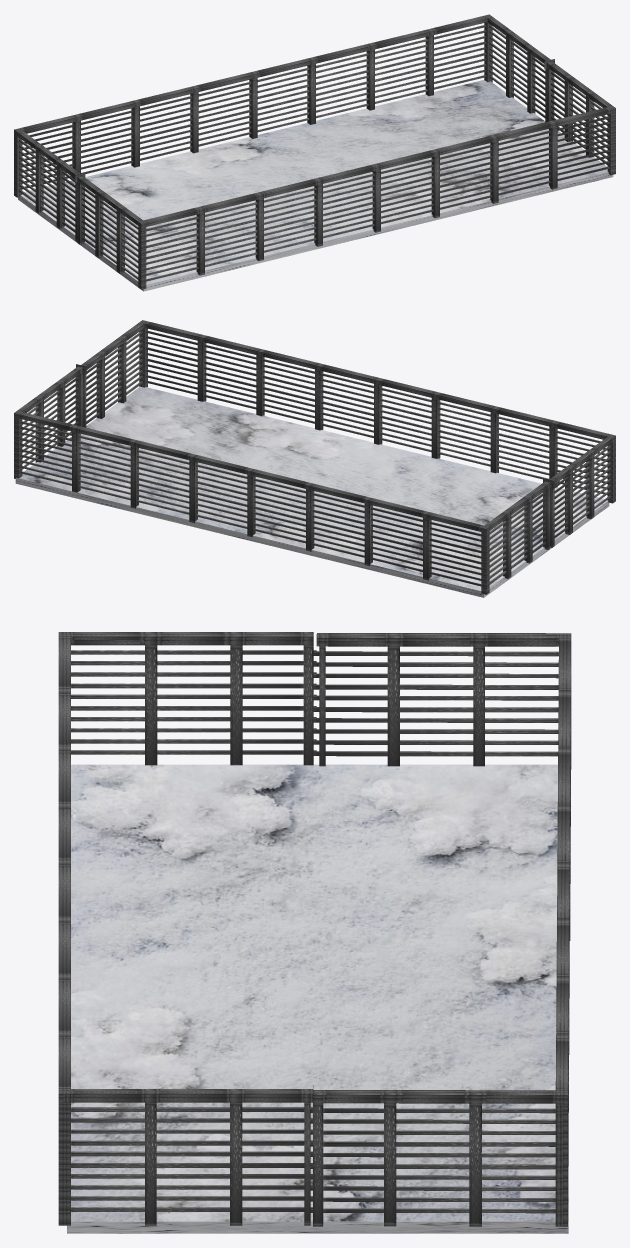
The model's file is valla1.obj.
The picture shows the model from 3 angles, top to bottom: view 1: azimuth 30°, elevation 25°; view 2: azimuth 150°, elevation 25°; view 3: azimuth 270°, elevation 25°; orthographic projection. The views are drawn at different scales.
Parts seen in each view (by area): view 1: Box001, railing_railing_railing_dining_railing_ground_floor, railing_railing_railing_dining_railing_ground_floor001; view 2: Box001, railing_railing_railing_dining_railing_ground_floor001, railing_railing_railing_dining_railing_ground_floor; view 3: Box001, railing_railing_railing_dining_railing_ground_floor001, railing_railing_railing_dining_railing_ground_floor.
Boxes of the visible parts, left/top/right/bottom form: Box001: left=18, top=80, right=613, bottom=291; railing_railing_railing_dining_railing_ground_floor: left=75, top=61, right=615, bottom=289; railing_railing_railing_dining_railing_ground_floor001: left=14, top=14, right=554, bottom=241; Box001: left=15, top=386, right=609, bottom=597; railing_railing_railing_dining_railing_ground_floor001: left=14, top=364, right=552, bottom=594; railing_railing_railing_dining_railing_ground_floor: left=76, top=320, right=615, bottom=547; Box001: left=67, top=764, right=568, bottom=1233; railing_railing_railing_dining_railing_ground_floor001: left=310, top=633, right=571, bottom=1226; railing_railing_railing_dining_railing_ground_floor: left=58, top=632, right=316, bottom=1225.
Size of the model in its own units: 462 by 66.48 by 215.
2 materials, 2 textured.
